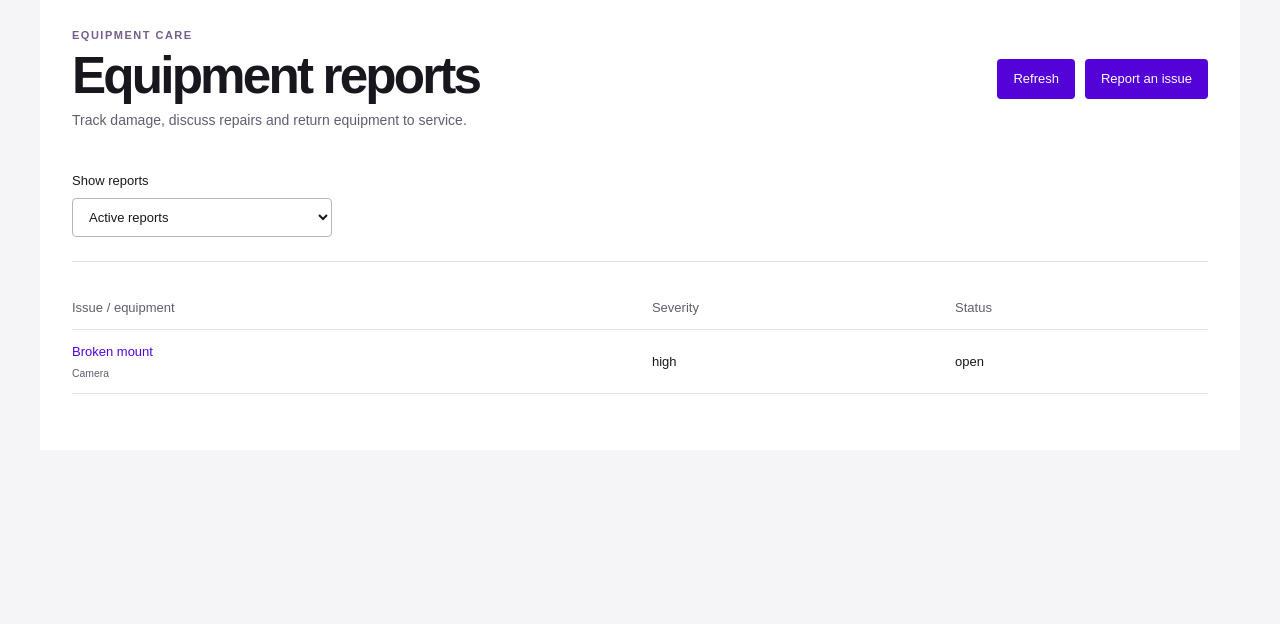
Equipment report workspace › keeps resolution notes after a conflict for review
Click the button "Broken mount". click: point(112, 352)
box: [72,342,153,362]
(page scrolled)
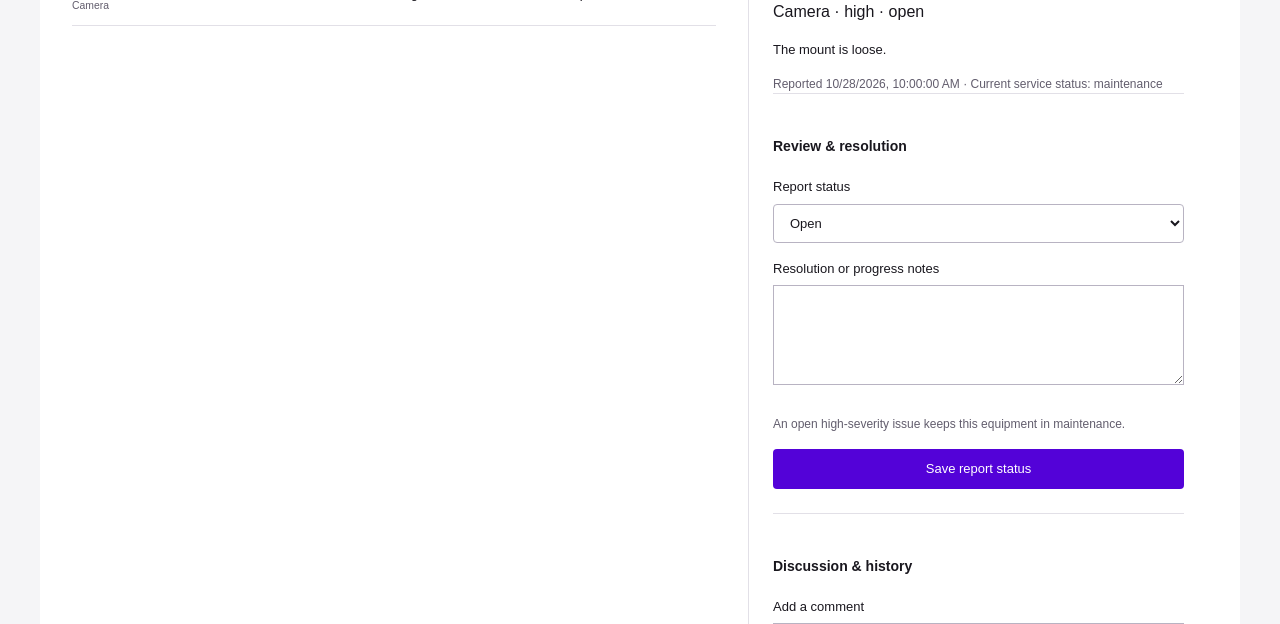
Type "Awaiting replacement." into the text box labelled "Resolution or progress notes". click: point(978, 335)
box: [773,285,1184,385]
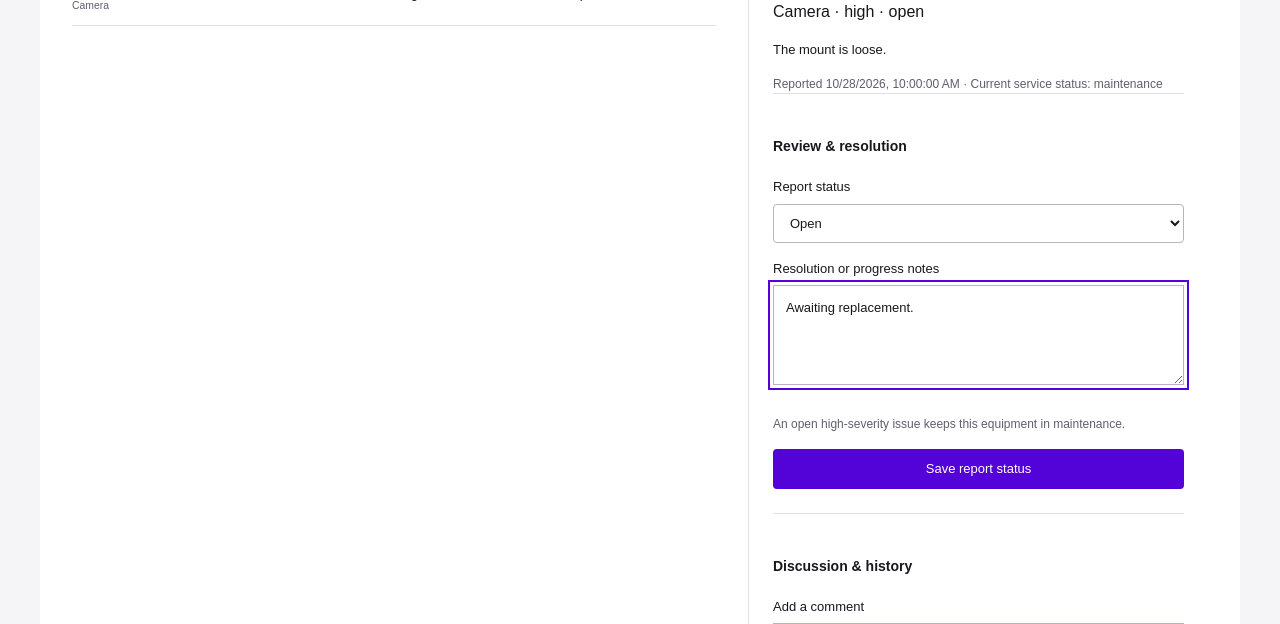
Click the button "Save report status". click: point(978, 469)
box: [773,449,1184,489]
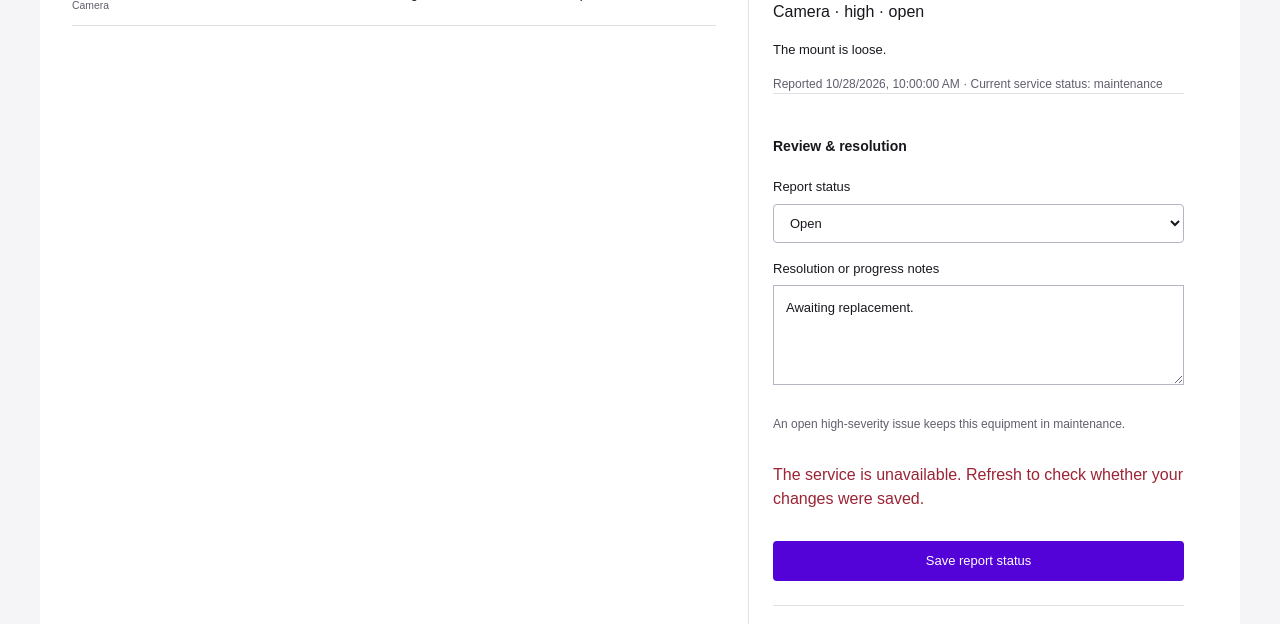
Expected: the message shows "service is unavailable", [773,466,1183,507]
